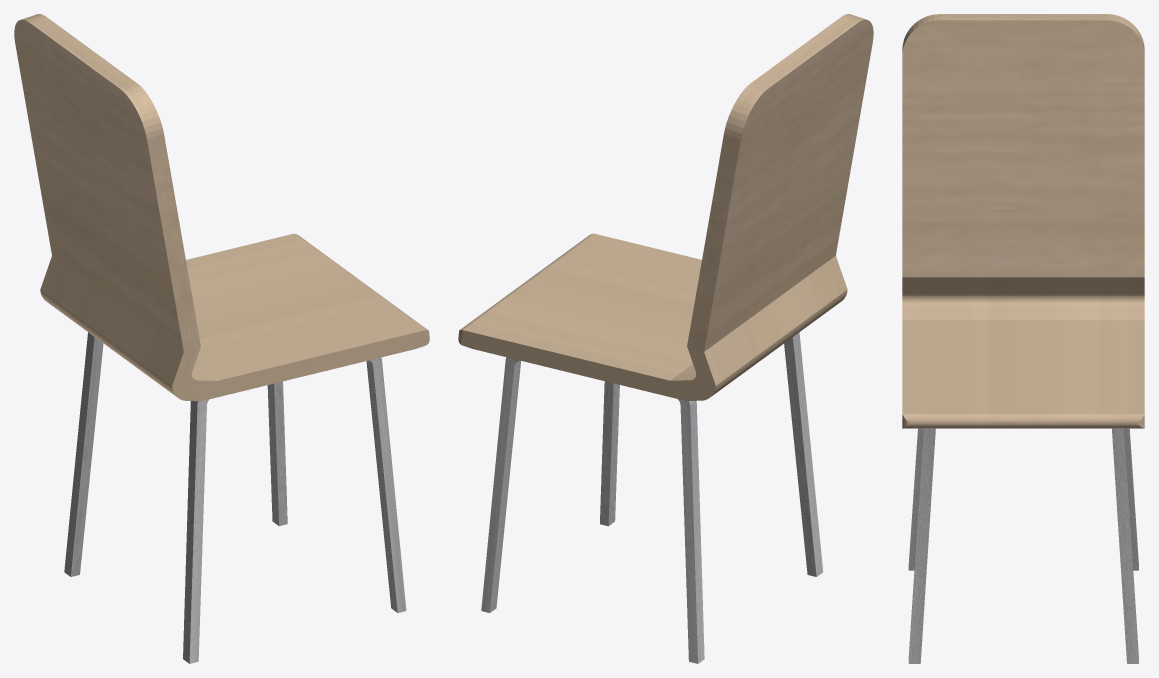
3 renders of one model, left to right at view 1: azimuth 30°, elevation 25°; view 2: azimuth 150°, elevation 25°; view 3: azimuth 270°, elevation 25°, orthographic. The views are drawn at different scales.
Parts seen in each view (by area): view 1: Cube, 椅子腿; view 2: Cube, 椅子腿; view 3: Cube, 椅子腿.
Part boxes in pixels (x1,y1,x2,y2): Cube: (14,14,429,401); 椅子腿: (64,332,406,663); Cube: (458,14,873,400); 椅子腿: (481,332,823,663); Cube: (902,14,1144,428); 椅子腿: (908,428,1138,663).
Size of the model in its own units: 2.04 by 3.86 by 1.6.
Materials: 2 (2 with a texture image).
